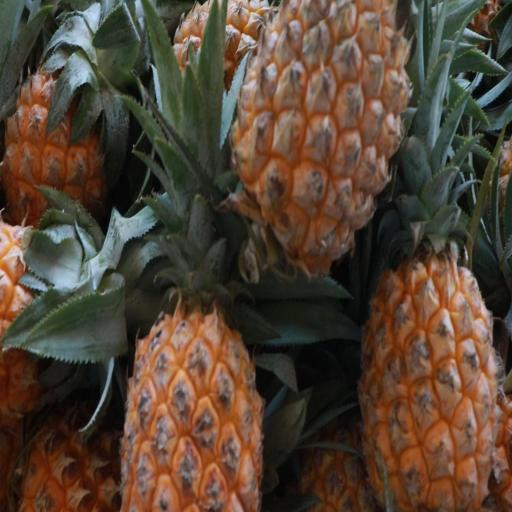Pineapple - v8 v1: (226, 0, 416, 300), (354, 151, 501, 512), (119, 239, 269, 512), (1, 16, 118, 234)
